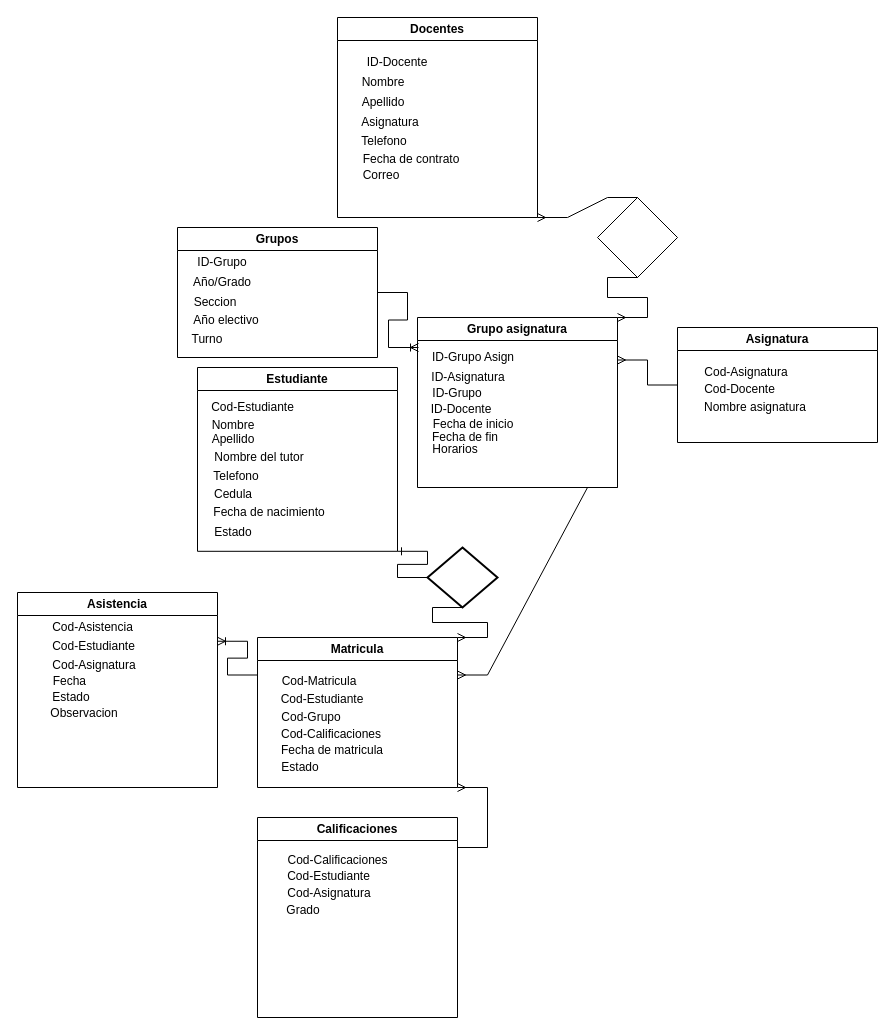
This 895x1035 diagram has some shape labels left out. The shapes that lost their labels are listed below. From the top down, each one's centre as x and y in pixels, then its label:
At (637,237): "Tabla intermediaria".
At (462,577): "Realiza".
